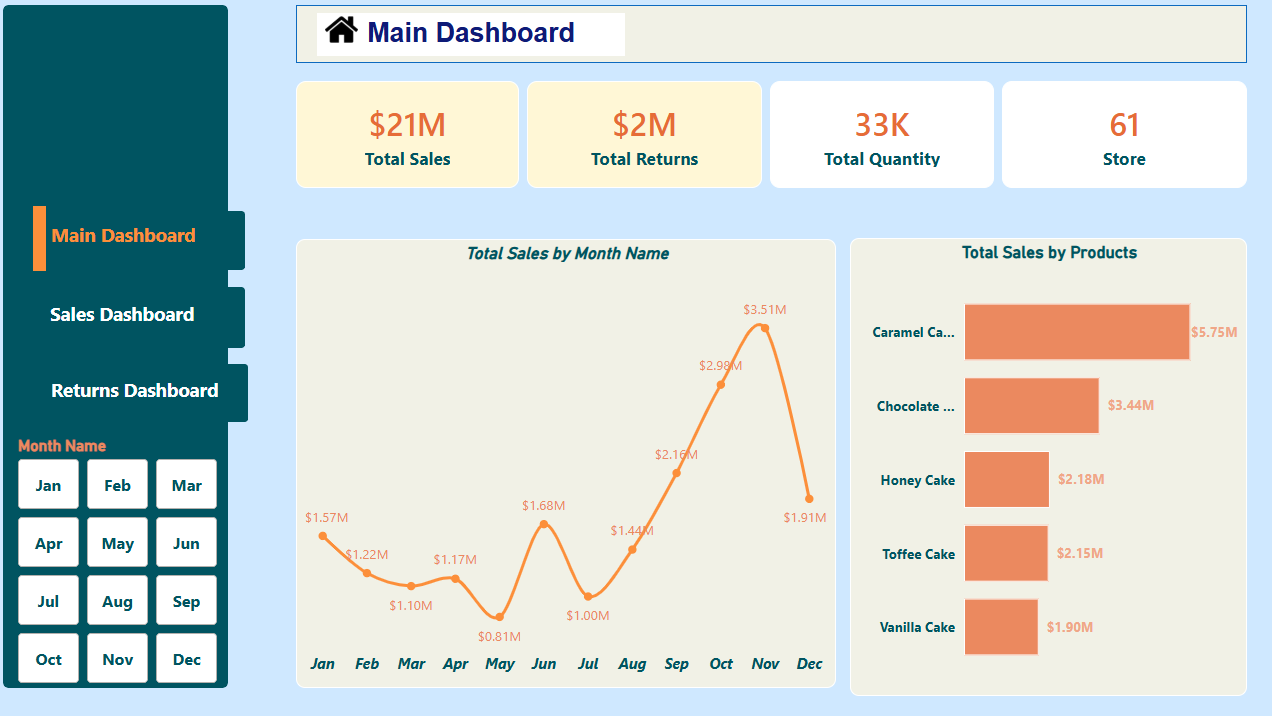

The page's visual inventory and layout, read from the dashboard file:
{"tool":"powerbi","page":{"name":" Main Dashboaard","canvas":[1280,720],"ordinal":0},"visuals":[{"type":"shape","box":[9,8,225,683],"z":1000},{"type":"cardVisual","fields":{"Data":["Sheet2.Total Sales"]},"box":[301.5,83.6,223.7,107],"z":2000},{"type":"cardVisual","fields":{"Data":["Sheet2.Total Returns"]},"box":[533,83.6,235.4,107],"z":3000},{"type":"cardVisual","fields":{"Data":["Sheet2.Total Quantity"]},"box":[776.2,83.6,223.7,107],"z":4000},{"type":"cardVisual","fields":{"Data":["Count(Sheet4.store name)"]},"box":[1007.7,83.6,245.1,107],"z":5000},{"type":"group","id":"g1","title":"Group 1","box":[52,367,202,58],"z":6000},{"type":"group","id":"g2","title":"Group 2","box":[61,290,190,61],"z":7000},{"type":"shape","box":[67,367,187,58],"z":7000,"group":"g1"},{"type":"shape","box":[52,213.8,199.4,59.3],"z":8000},{"type":"shape","box":[61,290,190,61],"z":8000,"group":"g2"},{"type":"textbox","box":[52,219.7,154.7,44.7],"z":9000},{"type":"shape","box":[39,209,13,65],"z":10000},{"type":"lineChart","fields":{"Category":["Sheet4.Month Name"],"Y":["Sheet2.Total Sales"]},"box":[302,242,540,449],"z":11000},{"type":"barChart","fields":{"Category":["Sheet4.Products"],"Y":["Sheet2.Total Sales"]},"box":[856,241,397,458],"z":12000},{"type":"textbox","box":[52,375,189,50],"z":12000,"group":"g1"},{"type":"advancedSlicerVisual","fields":{"Values":["Sheet4.Month Name"]},"box":[20,437,212,255],"z":13000},{"type":"actionButton","box":[52,290,182,52],"z":14000},{"type":"shape","box":[302,8,951,58],"z":17500},{"type":"textbox","box":[323,16,308,43],"z":19000},{"type":"image","box":[323,16,49,33],"z":19500}]}

Visuals, with their boxes in screenshot pixels (x1, y1, x2, y2), scaled from the page's 1280x720 canvas onto the 1272x716 screenshot:
shape: <region>9, 8, 233, 687</region>
cardVisual - Sheet2.Total Sales: <region>300, 83, 522, 190</region>
cardVisual - Sheet2.Total Returns: <region>530, 83, 764, 190</region>
cardVisual - Sheet2.Total Quantity: <region>771, 83, 994, 190</region>
cardVisual - Count(Sheet4.store name): <region>1001, 83, 1245, 190</region>
"Group 1" group: <region>52, 365, 252, 423</region>
"Group 2" group: <region>61, 288, 249, 349</region>
shape: <region>67, 365, 252, 423</region>
shape: <region>52, 213, 250, 272</region>
shape: <region>61, 288, 249, 349</region>
textbox: <region>52, 218, 205, 263</region>
shape: <region>39, 208, 52, 272</region>
lineChart - Sheet4.Month Name x Sheet2.Total Sales: <region>300, 241, 837, 687</region>
barChart - Sheet4.Products x Sheet2.Total Sales: <region>851, 240, 1245, 695</region>
textbox: <region>52, 373, 239, 423</region>
advancedSlicerVisual - Sheet4.Month Name: <region>20, 435, 231, 688</region>
actionButton: <region>52, 288, 233, 340</region>
shape: <region>300, 8, 1245, 66</region>
textbox: <region>321, 16, 627, 59</region>
image: <region>321, 16, 370, 49</region>
